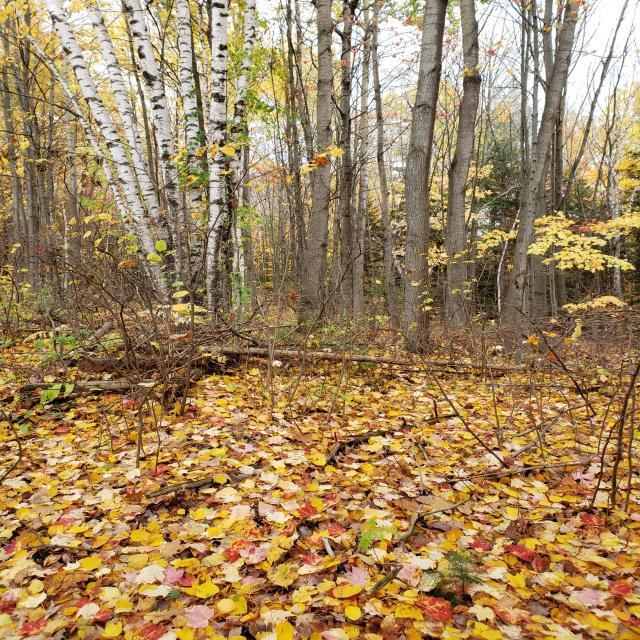fallen_object: (70, 306, 556, 409)
